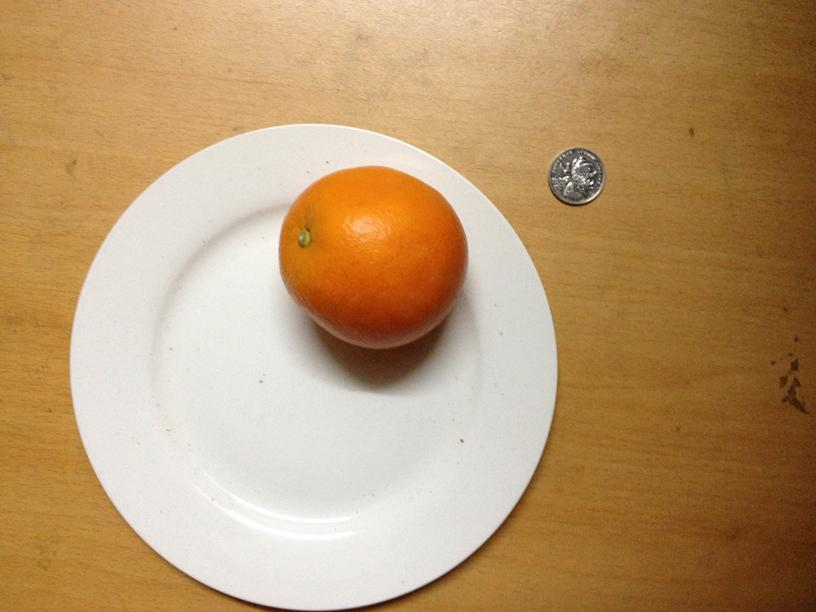coin: (546, 144, 606, 207)
orange: (279, 165, 468, 351)
